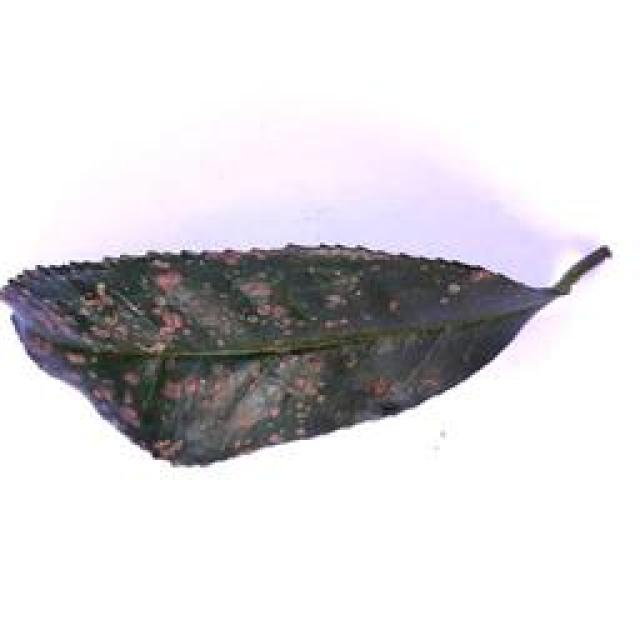Algal Leaf Spot: (0, 243, 536, 465)
